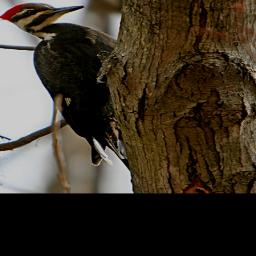Woodpecker: (0, 2, 133, 171)
